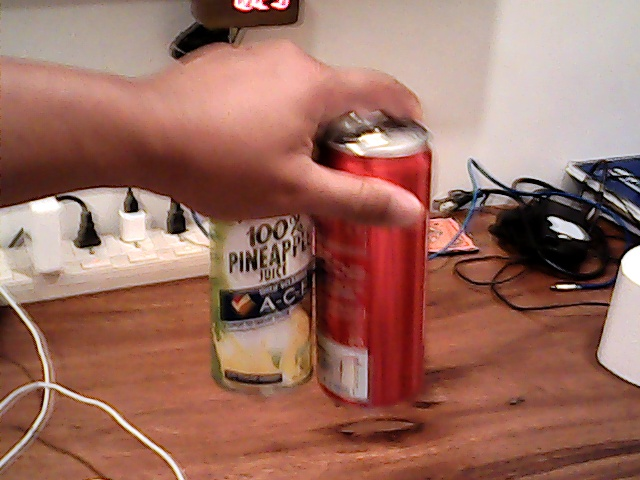Cola: (313, 114, 455, 421)
Pine Juice: (192, 186, 316, 421)
